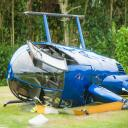helicopter: (4, 11, 128, 117)
